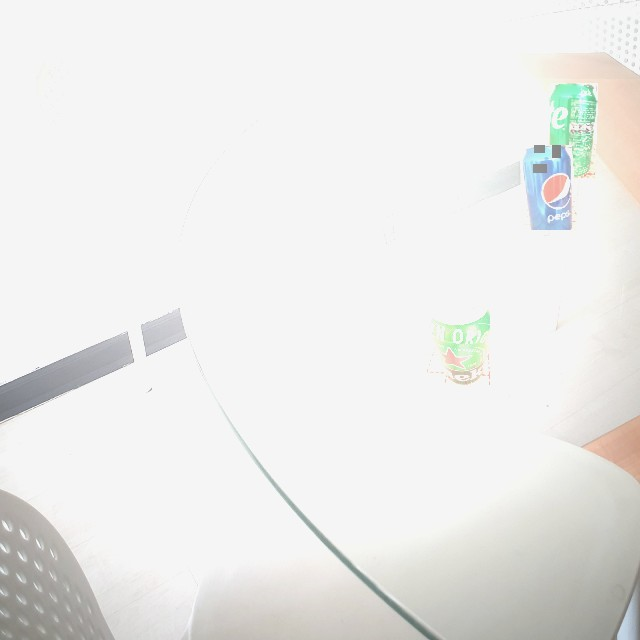heineken: (427, 294, 490, 385)
pepsi: (520, 145, 577, 230)
sprite: (547, 83, 598, 178)
